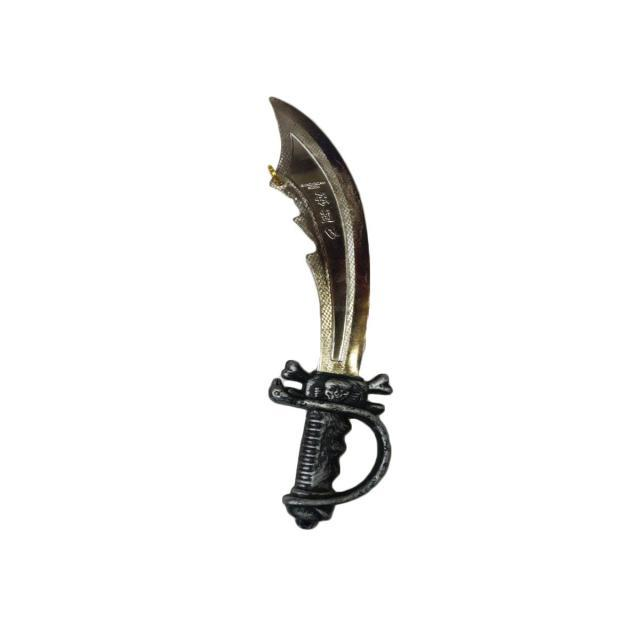cutlass: (245, 91, 408, 537)
